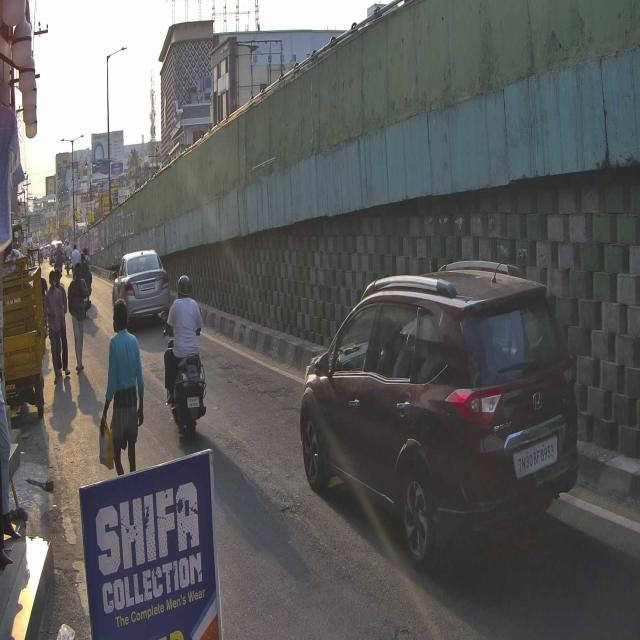single_rider: (161, 270, 208, 435)
